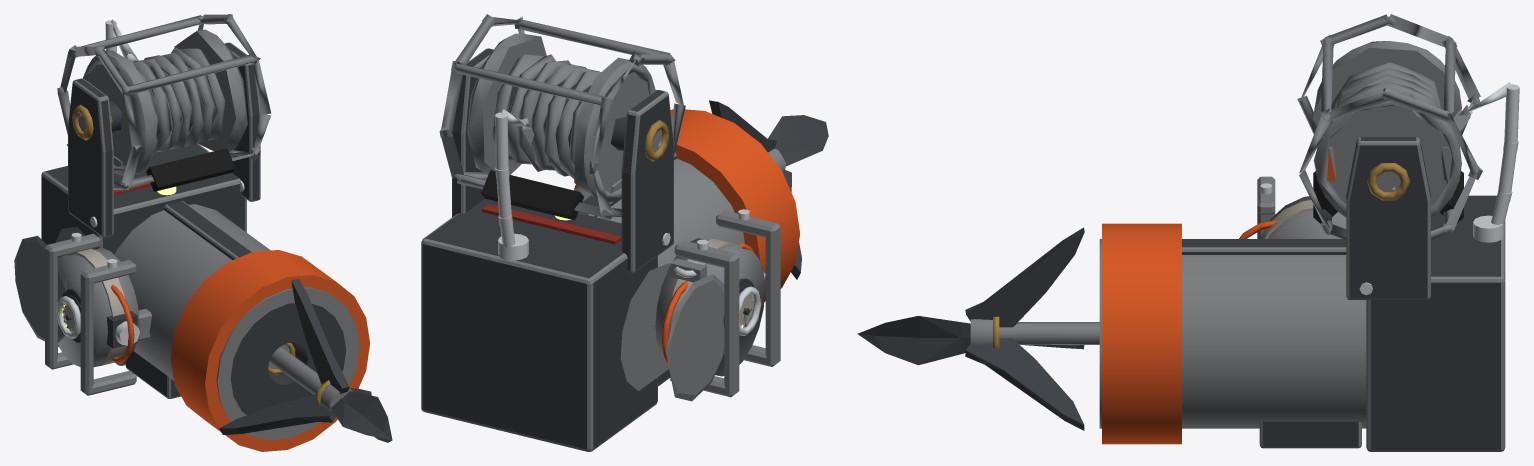
The model's file is gauntlet_grapple.fbx.
3 renders of one model, left to right at view 1: azimuth 30°, elevation 25°; view 2: azimuth 150°, elevation 25°; view 3: azimuth 270°, elevation 25°, orthographic. The views are drawn at different scales.
Visible parts, largest first — view 1: Mesh_CableDrum_Caged, Mesh_Grapple_Tube, Mesh_Grapple_MuzzleCollar, Mesh_GasBottle_Flask, Mesh_GrappleHarpoon, Mesh_Grapple_Breech, Mesh_Grapple_MuzzleBushing, Mesh_Grapple_PylonLeft, Mesh_Grapple_BottleClamps, Mesh_Grapple_PylonRight, Mesh_Grapple_TubeRail, Mesh_Grapple_CradleFront (+1 smaller); view 2: Mesh_Grapple_Breech, Mesh_CableDrum_Caged, Mesh_GasBottle_Flask, Mesh_Grapple_MuzzleCollar, Mesh_Grapple_PylonLeft, Mesh_Grapple_BottleClamps, Mesh_Grapple_Tube, Mesh_GrappleHarpoon, Mesh_Grapple_PylonRight, Mesh_Grapple_Cable; view 3: Mesh_Grapple_Tube, Mesh_Grapple_Breech, Mesh_CableDrum_Caged, Mesh_Grapple_MuzzleCollar, Mesh_GrappleHarpoon, Mesh_Grapple_PylonRight, Mesh_Grapple_TubeRail, Mesh_GasBottle_Flask, Mesh_Grapple_Cable, Mesh_Grapple_CradleFront, Mesh_Grapple_CradleRear, Mesh_Grapple_BottleClamps.
Part boxes in pixels (x1,y1,x2,y2): Mesh_CableDrum_Caged: (57, 14, 271, 191); Mesh_Grapple_Tube: (114, 204, 359, 440); Mesh_Grapple_MuzzleCollar: (170, 250, 370, 451); Mesh_GasBottle_Flask: (14, 227, 139, 367); Mesh_GrappleHarpoon: (219, 278, 392, 442); Mesh_Grapple_Breech: (41, 143, 246, 365); Mesh_Grapple_MuzzleBushing: (230, 303, 345, 414); Mesh_Grapple_PylonLeft: (68, 78, 113, 237); Mesh_Grapple_BottleClamps: (45, 232, 151, 395); Mesh_Grapple_PylonRight: (224, 42, 260, 201); Mesh_Grapple_TubeRail: (164, 200, 252, 259); Mesh_Grapple_CradleFront: (145, 359, 180, 398); Mesh_Grapple_Breech: (421, 198, 657, 451); Mesh_CableDrum_Caged: (439, 14, 685, 220); Mesh_GasBottle_Flask: (620, 238, 765, 401); Mesh_Grapple_MuzzleCollar: (574, 109, 799, 301); Mesh_Grapple_PylonLeft: (621, 90, 673, 273); Mesh_Grapple_BottleClamps: (674, 209, 780, 397); Mesh_Grapple_Tube: (574, 158, 744, 267); Mesh_GrappleHarpoon: (709, 100, 828, 279); Mesh_Grapple_PylonRight: (452, 48, 493, 217); Mesh_Grapple_Cable: (495, 112, 515, 247); Mesh_Grapple_Tube: (1099, 239, 1366, 428); Mesh_Grapple_Breech: (1366, 195, 1505, 451); Mesh_CableDrum_Caged: (1297, 14, 1512, 239); Mesh_Grapple_MuzzleCollar: (1102, 223, 1181, 444); Mesh_GrappleHarpoon: (857, 227, 1099, 430); Mesh_Grapple_PylonRight: (1346, 137, 1430, 299); Mesh_Grapple_TubeRail: (1182, 239, 1346, 254); Mesh_GasBottle_Flask: (1239, 196, 1346, 238); Mesh_Grapple_Cable: (1491, 84, 1519, 224); Mesh_Grapple_CradleFront: (1259, 421, 1314, 448); Mesh_Grapple_CradleRear: (1307, 421, 1361, 448); Mesh_Grapple_BottleClamps: (1257, 176, 1275, 238).
Bounding box in the file's own units: 26.43 × 38.15 × 59.62.
